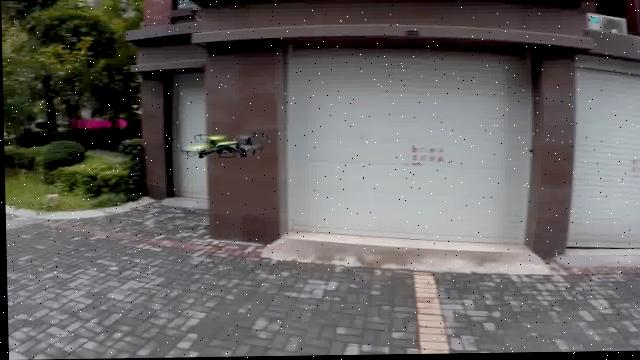drone: (180, 128, 269, 164)
